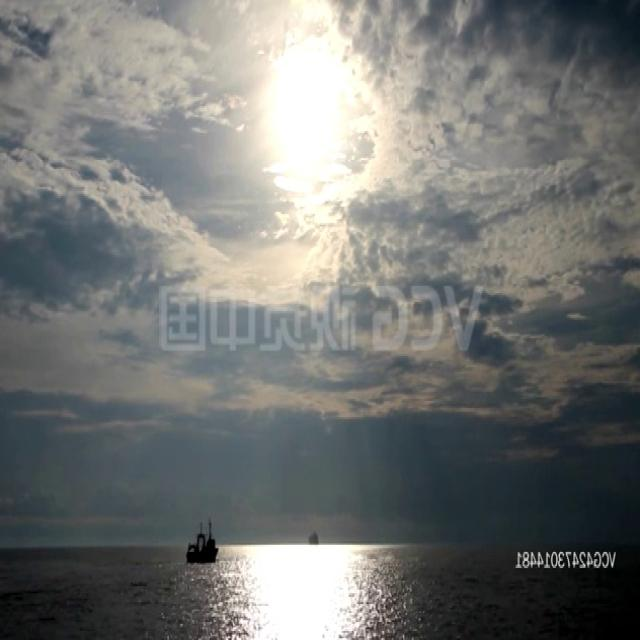fishing boat: (188, 518, 222, 566)
